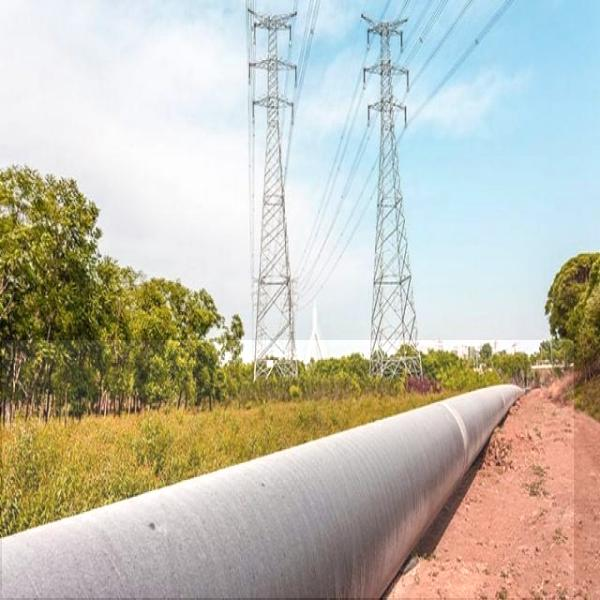no leak: (2, 340, 574, 598)
